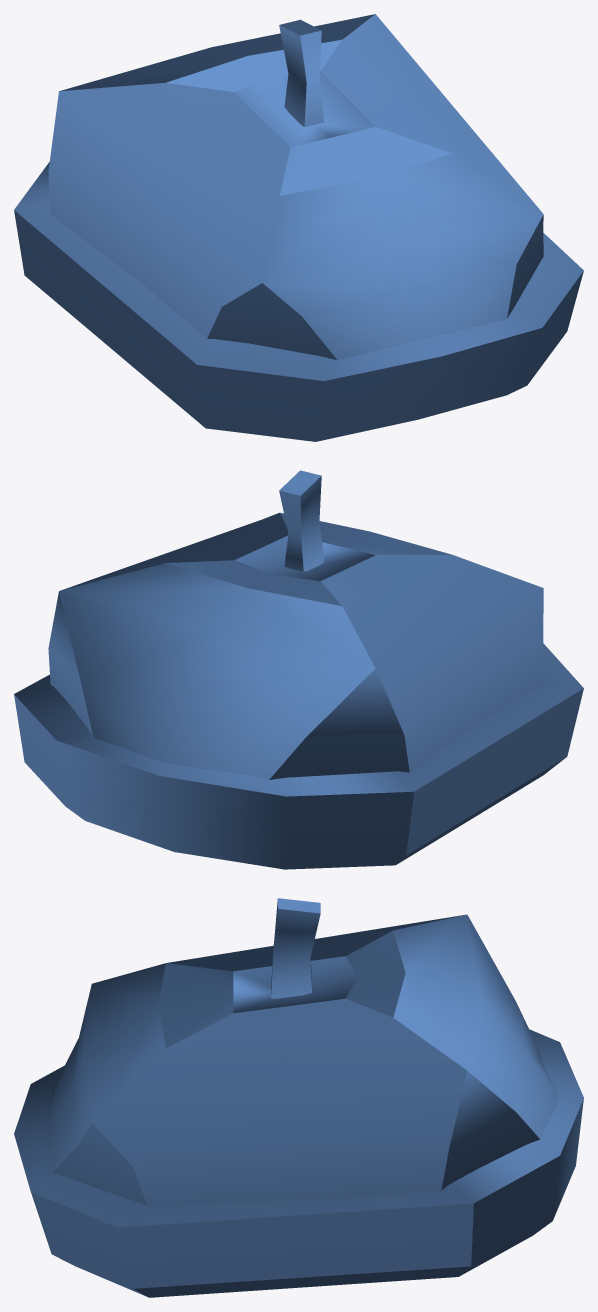
Rendered from FeltedHat.glb.
3 views of the same model, one above another, from view 1: azimuth 30°, elevation 25°; view 2: azimuth 150°, elevation 25°; view 3: azimuth 270°, elevation 25° (orthographic).
Parts seen in each view (by area): view 1: FeltedHat; view 2: FeltedHat; view 3: FeltedHat.
Part boxes in pixels (bbox=[...]): FeltedHat: bbox=[14, 14, 583, 441]; FeltedHat: bbox=[14, 470, 583, 869]; FeltedHat: bbox=[14, 898, 583, 1297].
Bounding box in the file's own units: 0.2757 × 0.2055 × 0.3364.
Materials: 1 (1 with a texture image).
